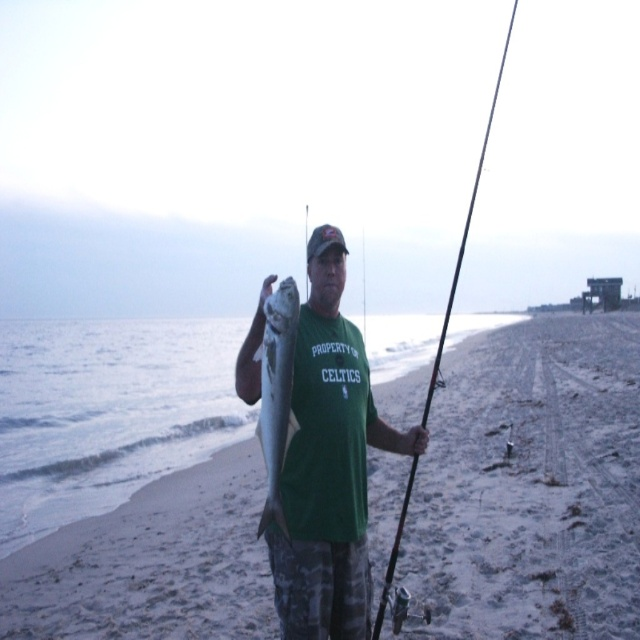Fish: (257, 271, 299, 550)
